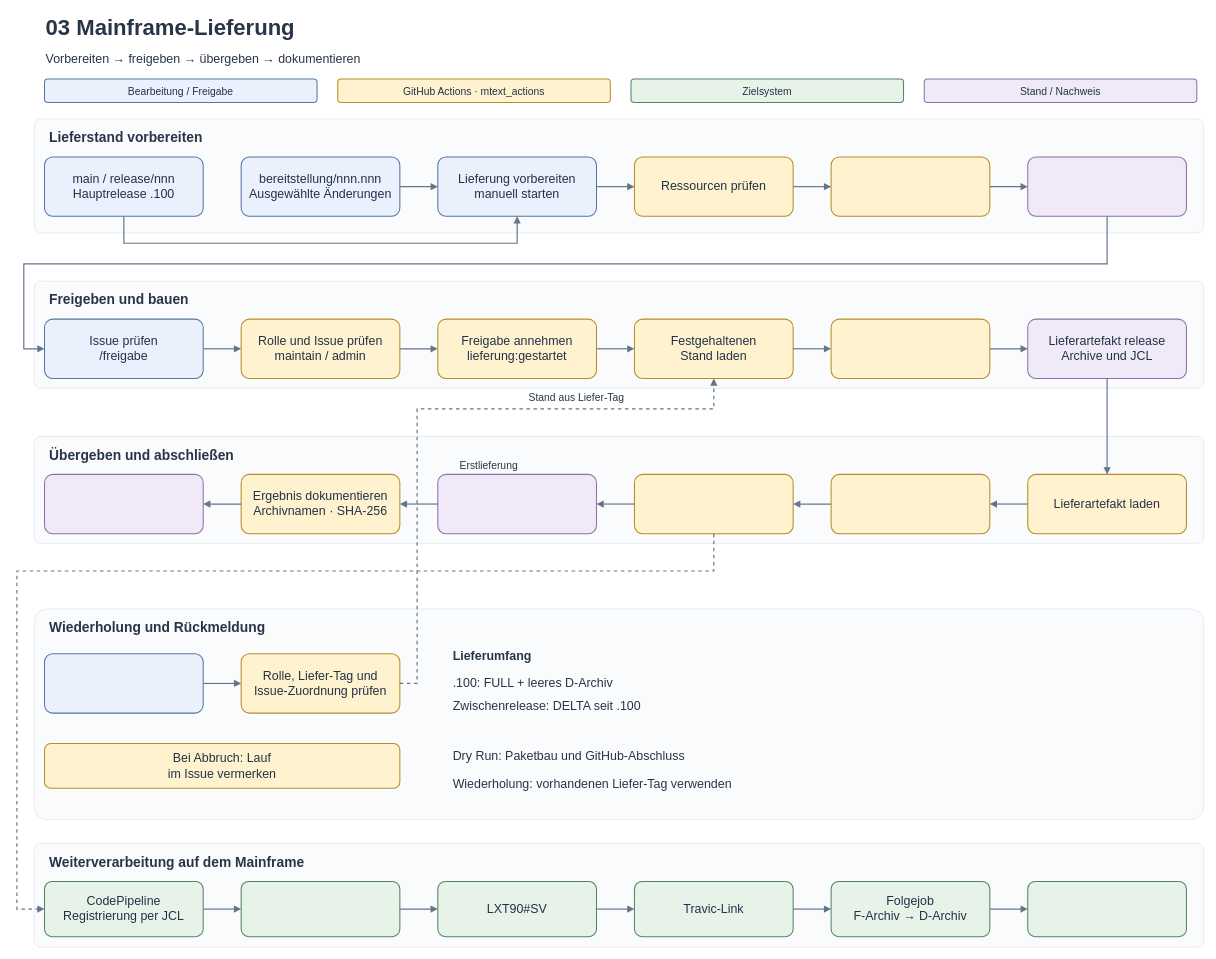
Image size: 1216x959. Some labels were removed from this diagram. The shapes that lost their labels are listed below. From the top down, each one's centre as x and y in pixels, then its label:
At point 910,186: "Tag und Umfang ermitteln".
At point 1107,186: "Freigabe-Issue Branch · SHA · Umfang".
At point 910,348: "Archive und JCL bauen FULL / DELTA".
At point 123,504: "Issue schließen lieferung:abgeschlossen".
At point 517,504: "Liefer-Tag erstellen mit Issue-Zuordnung".
At point 713,504: "JCL einreichen JES".
At point 910,504: "Archive hochladen FTPS → IZE9".
At point 123,683: "/wiederholung im zugehörigen Issue".
At point 320,909: "MT91".
At point 1107,909: "Ressourcen aktualisieren".
